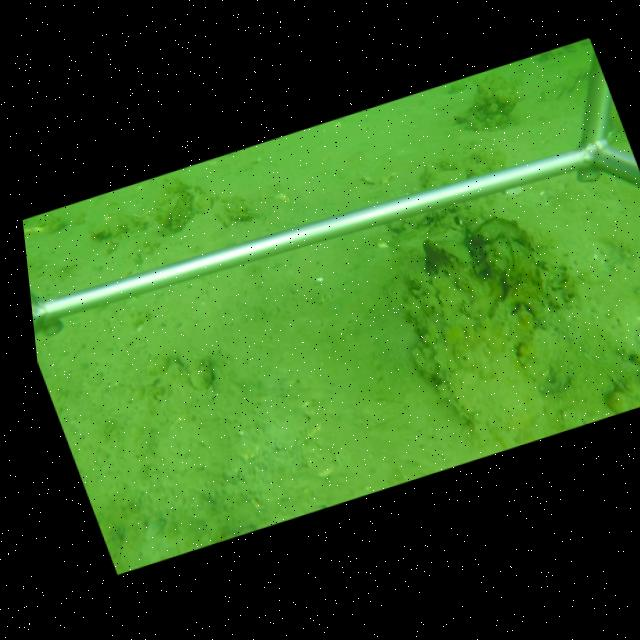Oyster-Closed: (428, 314, 547, 432), (421, 237, 476, 270), (428, 274, 465, 317), (499, 236, 525, 286)
Oyster-Indeterminate: (463, 214, 538, 254)
